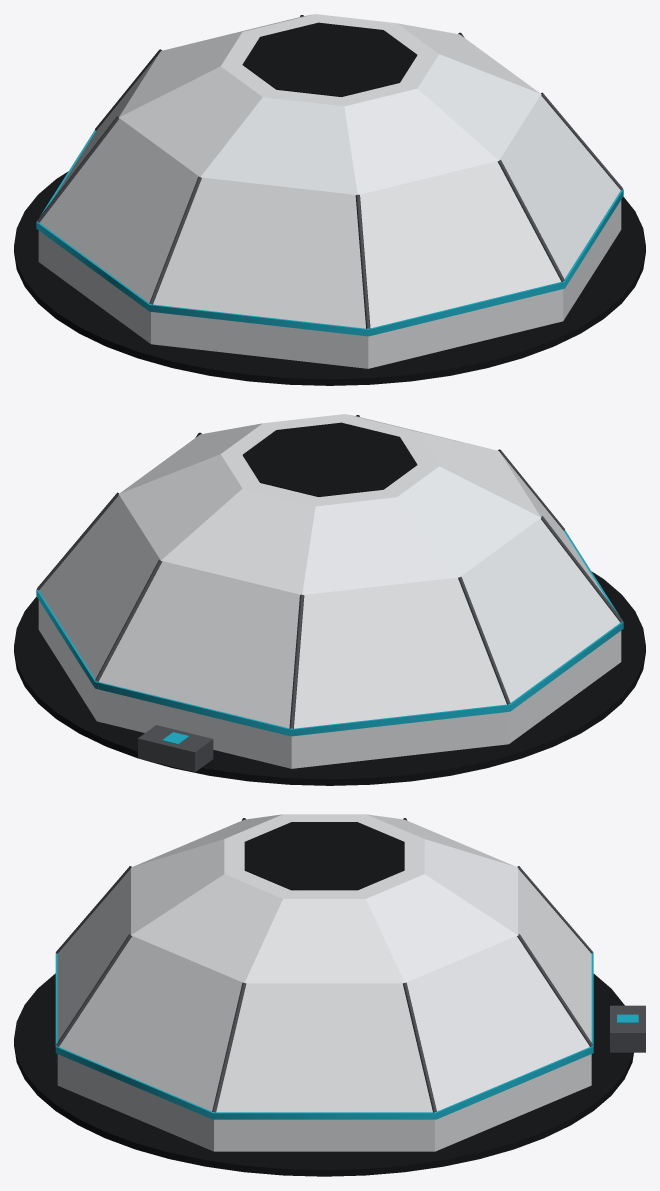
The model's file is c3_feeder.obj.
3 views of the same model, one above another, from view 1: azimuth 30°, elevation 25°; view 2: azimuth 150°, elevation 25°; view 3: azimuth 270°, elevation 25° (orthographic).
Visible parts, largest first — view 1: c3_feeder; view 2: c3_feeder; view 3: c3_feeder.
Part boxes in pixels (box(x1,y1,x2,y2)): c3_feeder: box(14, 14, 645, 385); c3_feeder: box(14, 414, 645, 785); c3_feeder: box(14, 814, 645, 1176).
Size of the model in its own units: 1.72 by 0.579 by 1.75.
